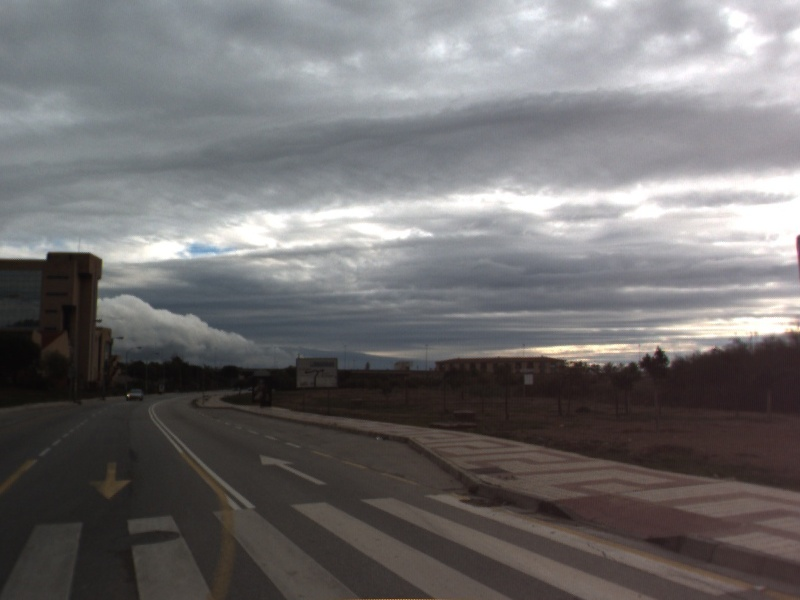STRAIGHT: (257, 452, 330, 486)
